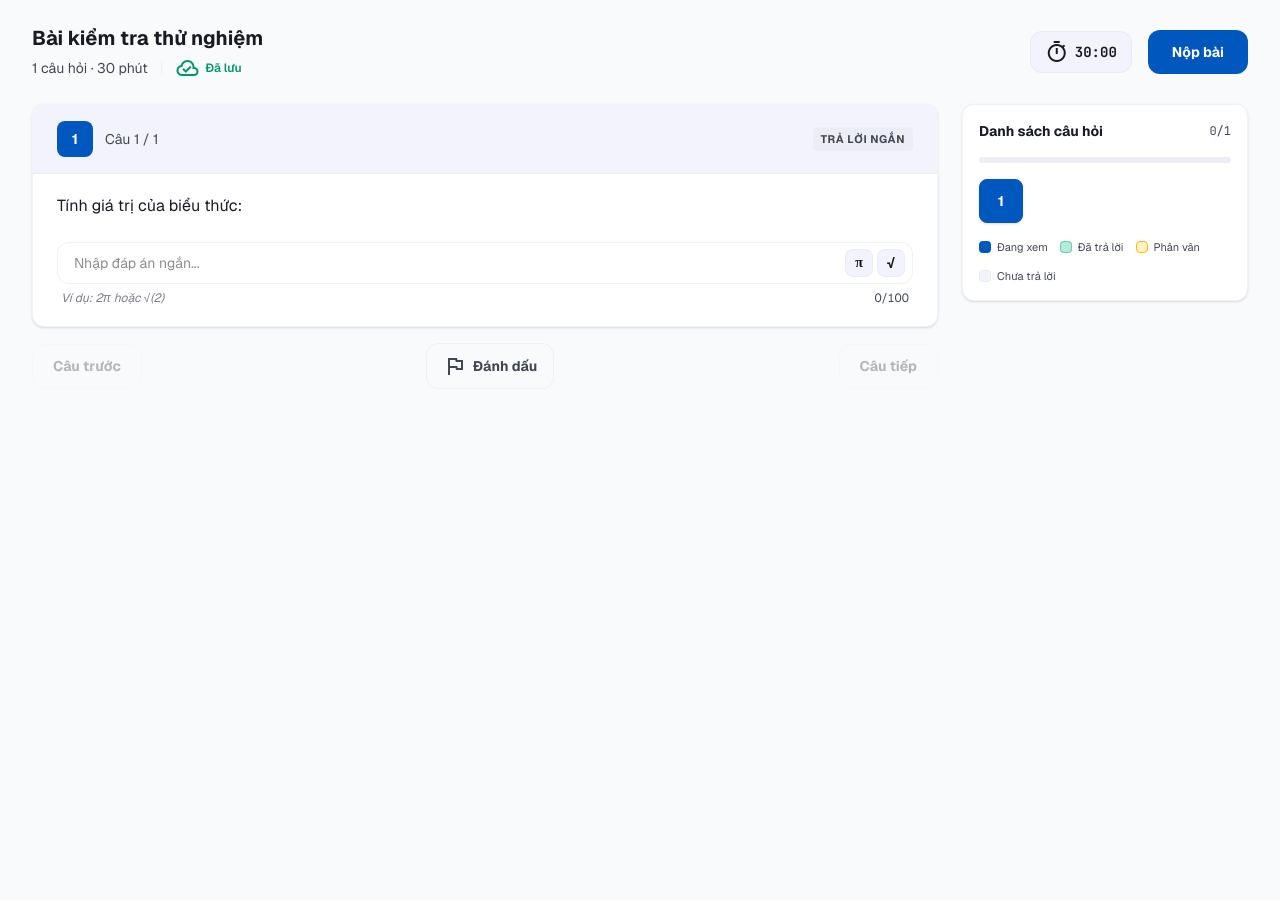
Test case: TestSession autosave and submit behavior › blocks submit if pending autosave fails, keeps draft, and does not submit blindly
In the field with placeholder "Nhập đáp án ngắn...": (485, 263) [57,242,913,284], type "π/√(2)"
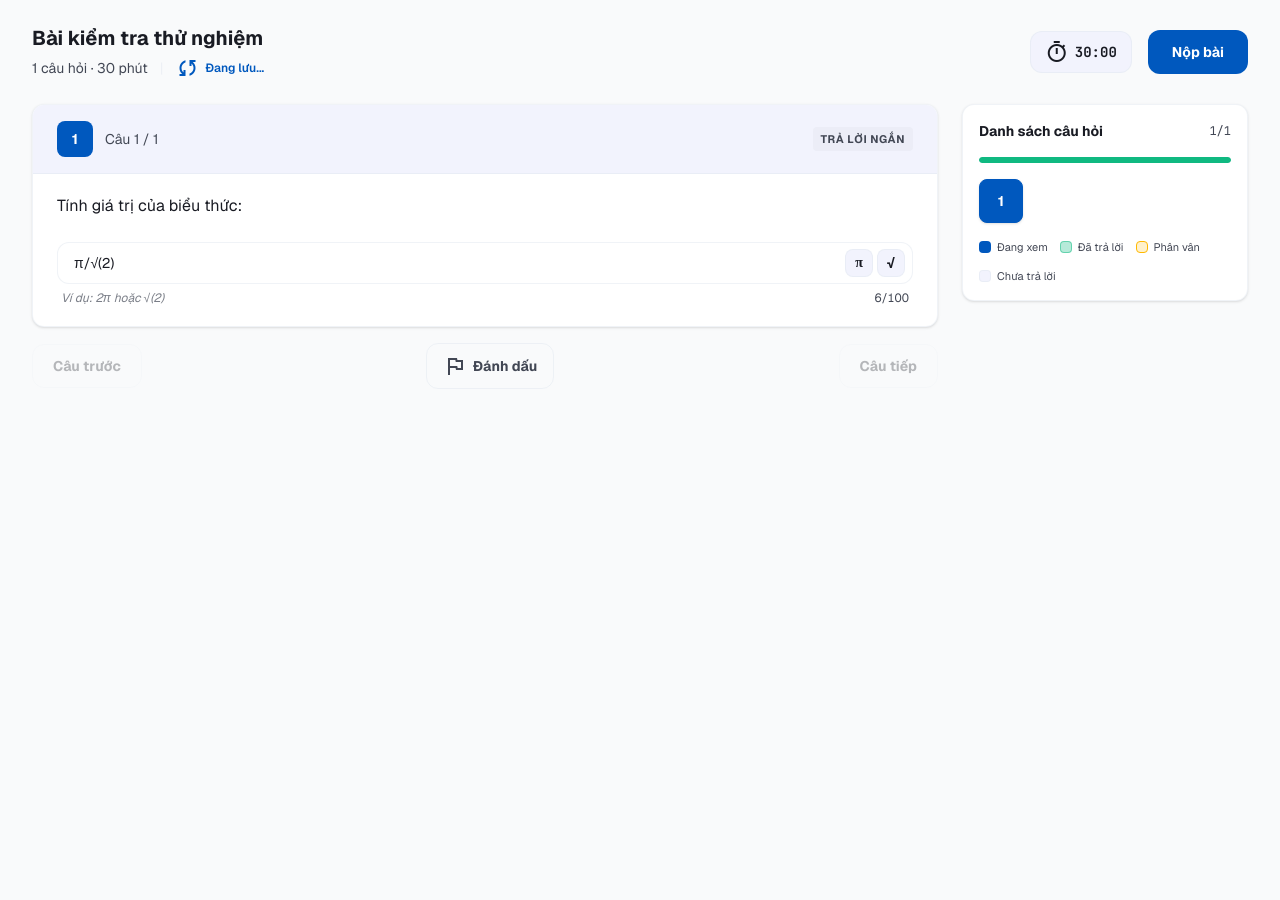
Open modal
Click the button "Nộp bài": (1198, 52) [1148,30,1248,74]
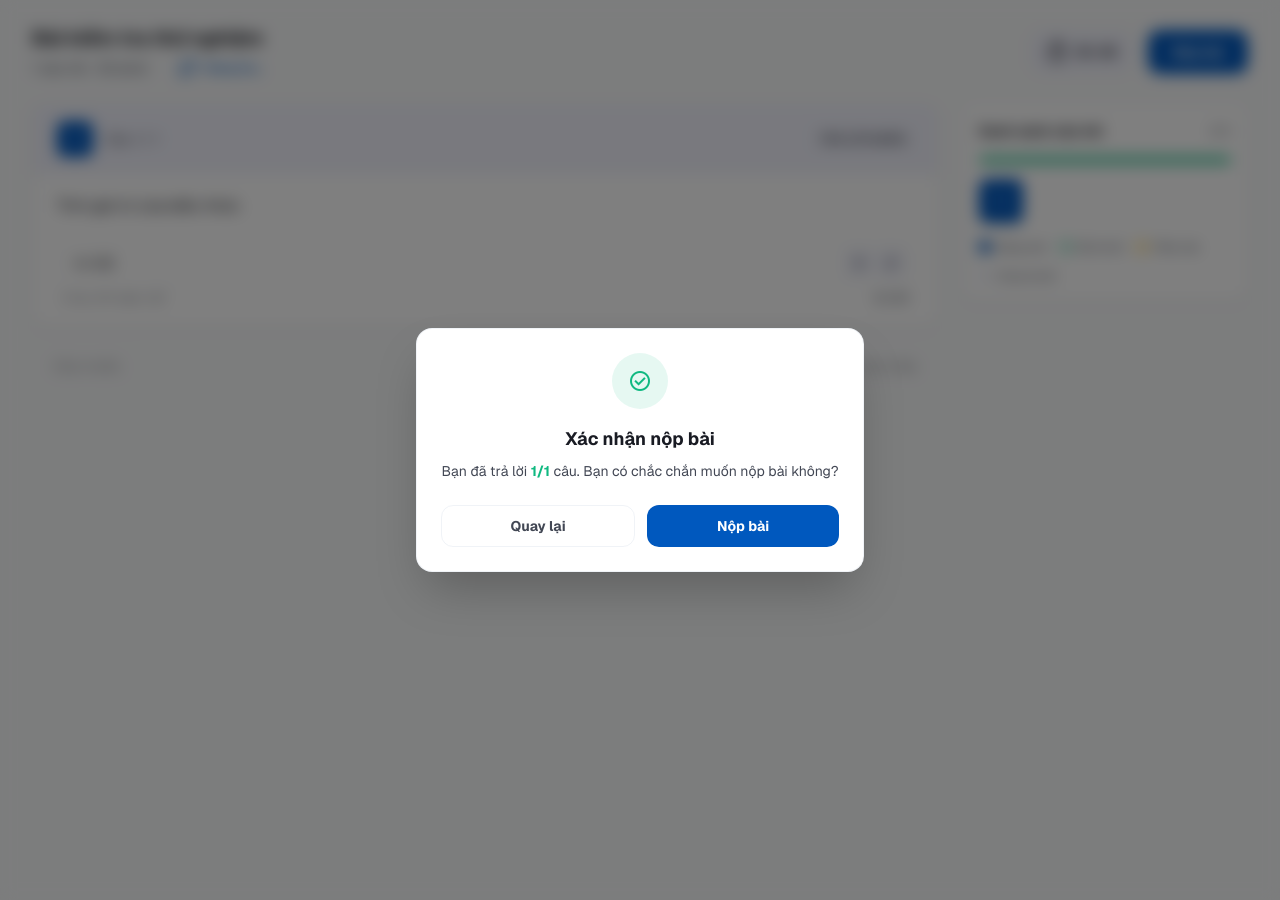
expect the heading "Xác nhận nộp bài" is shown: met, box [565,427,715,450]
Modal submit button is the second 'Nộp bài' button
Click the button "Nộp bài": (743, 526) [647,505,839,547]
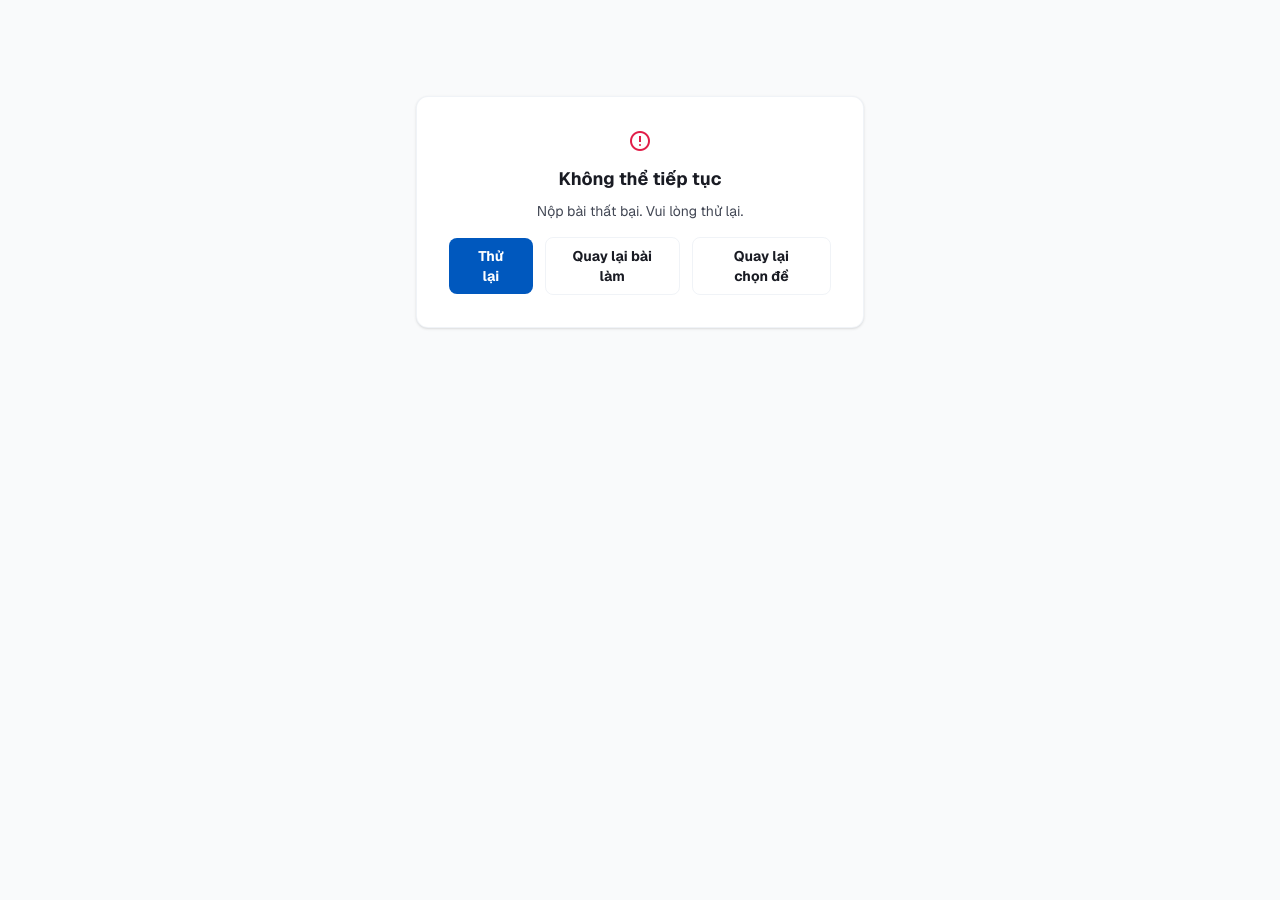
expect the heading "Không thể tiếp tục" is shown: met, box [558,167,722,190]
